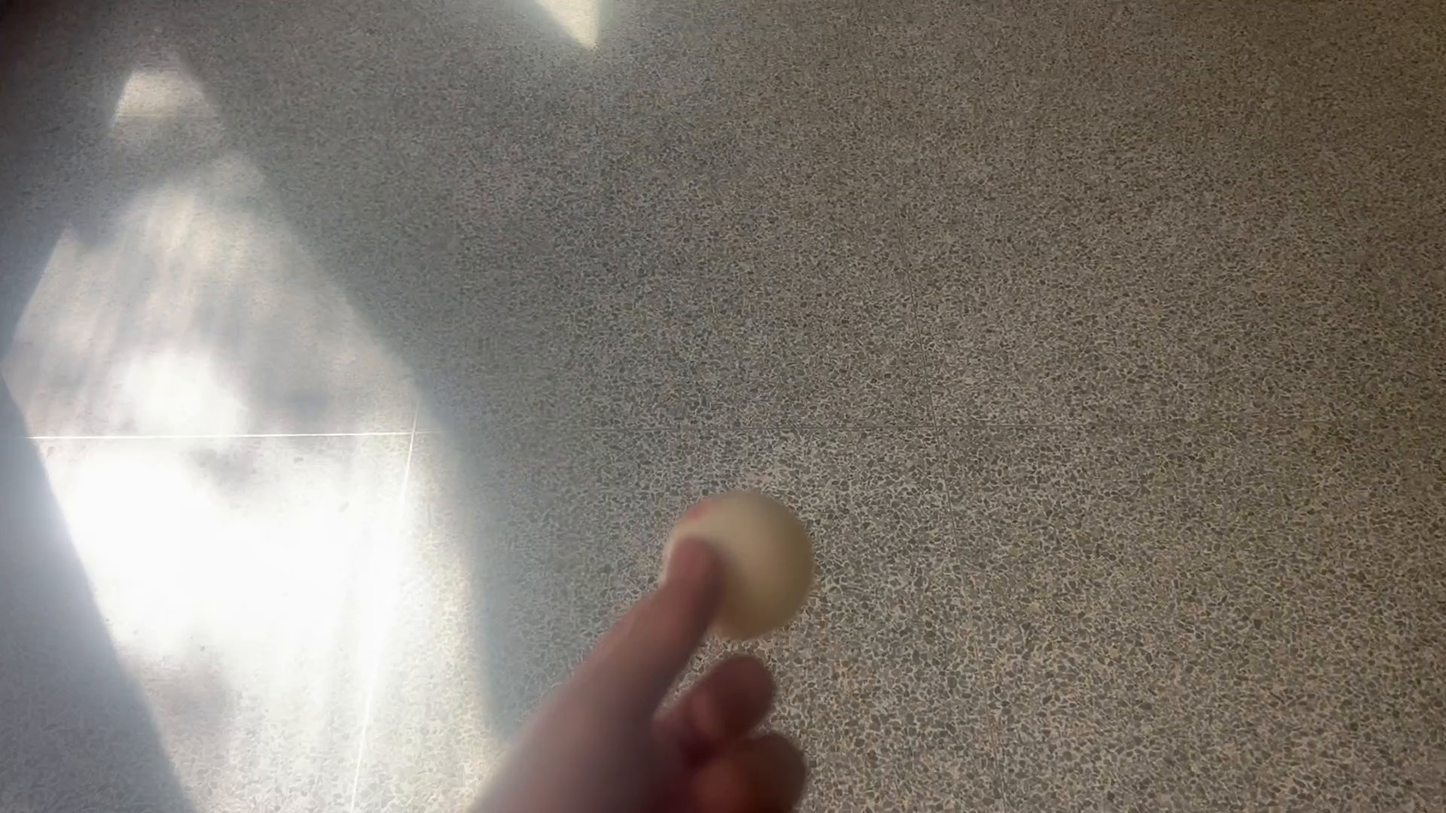Ball: (659, 487, 807, 637)
